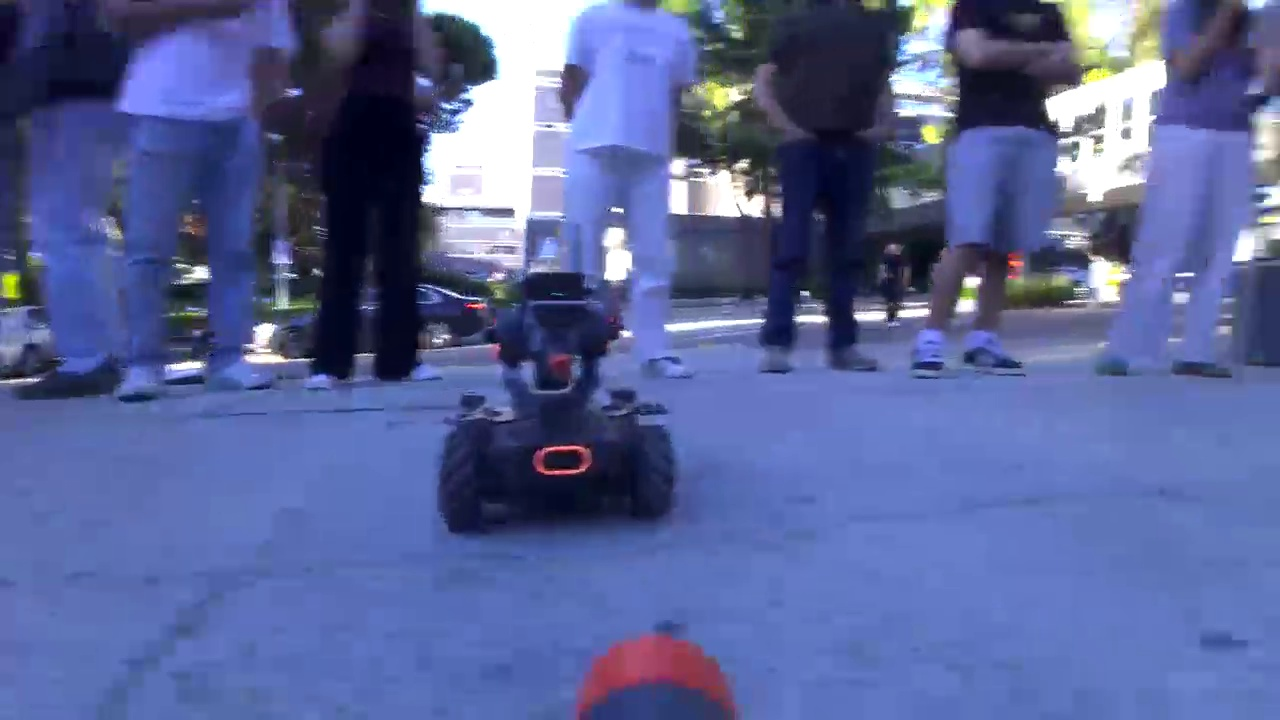robot: (425, 269, 698, 544)
